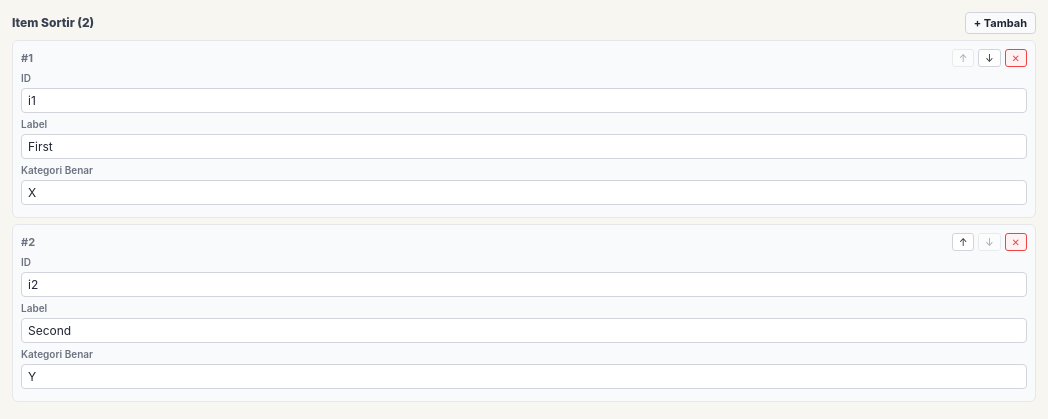
Scenario: PERFECT-MPI-INSPECTOR-V2 — Scope A: Basic Operations › 5. reorder item up/down in classification-game items list
# Move second item up
Click the button with test id "list-up-items-1" at point(963, 242), box [952, 233, 974, 251]
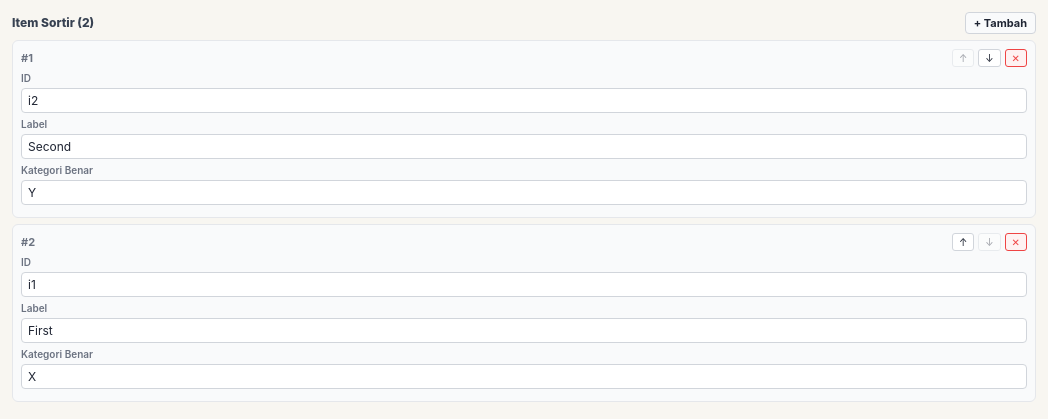
Expected: the field with test id "list-field-items-0-label" holds "Second", [21, 134, 1027, 159]
# Move it back down
Click the button with test id "list-down-items-0" at point(989, 58), box [978, 49, 1001, 67]
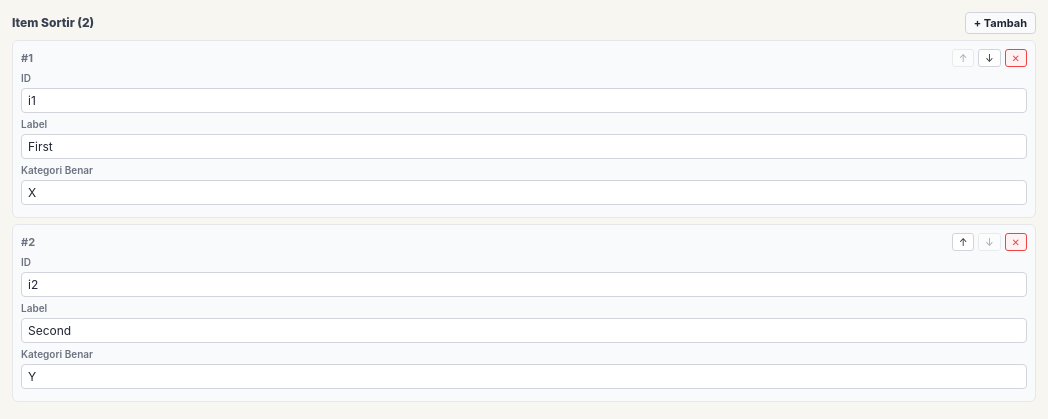
Expected: the field with test id "list-field-items-0-label" holds "First", [21, 134, 1027, 159]
